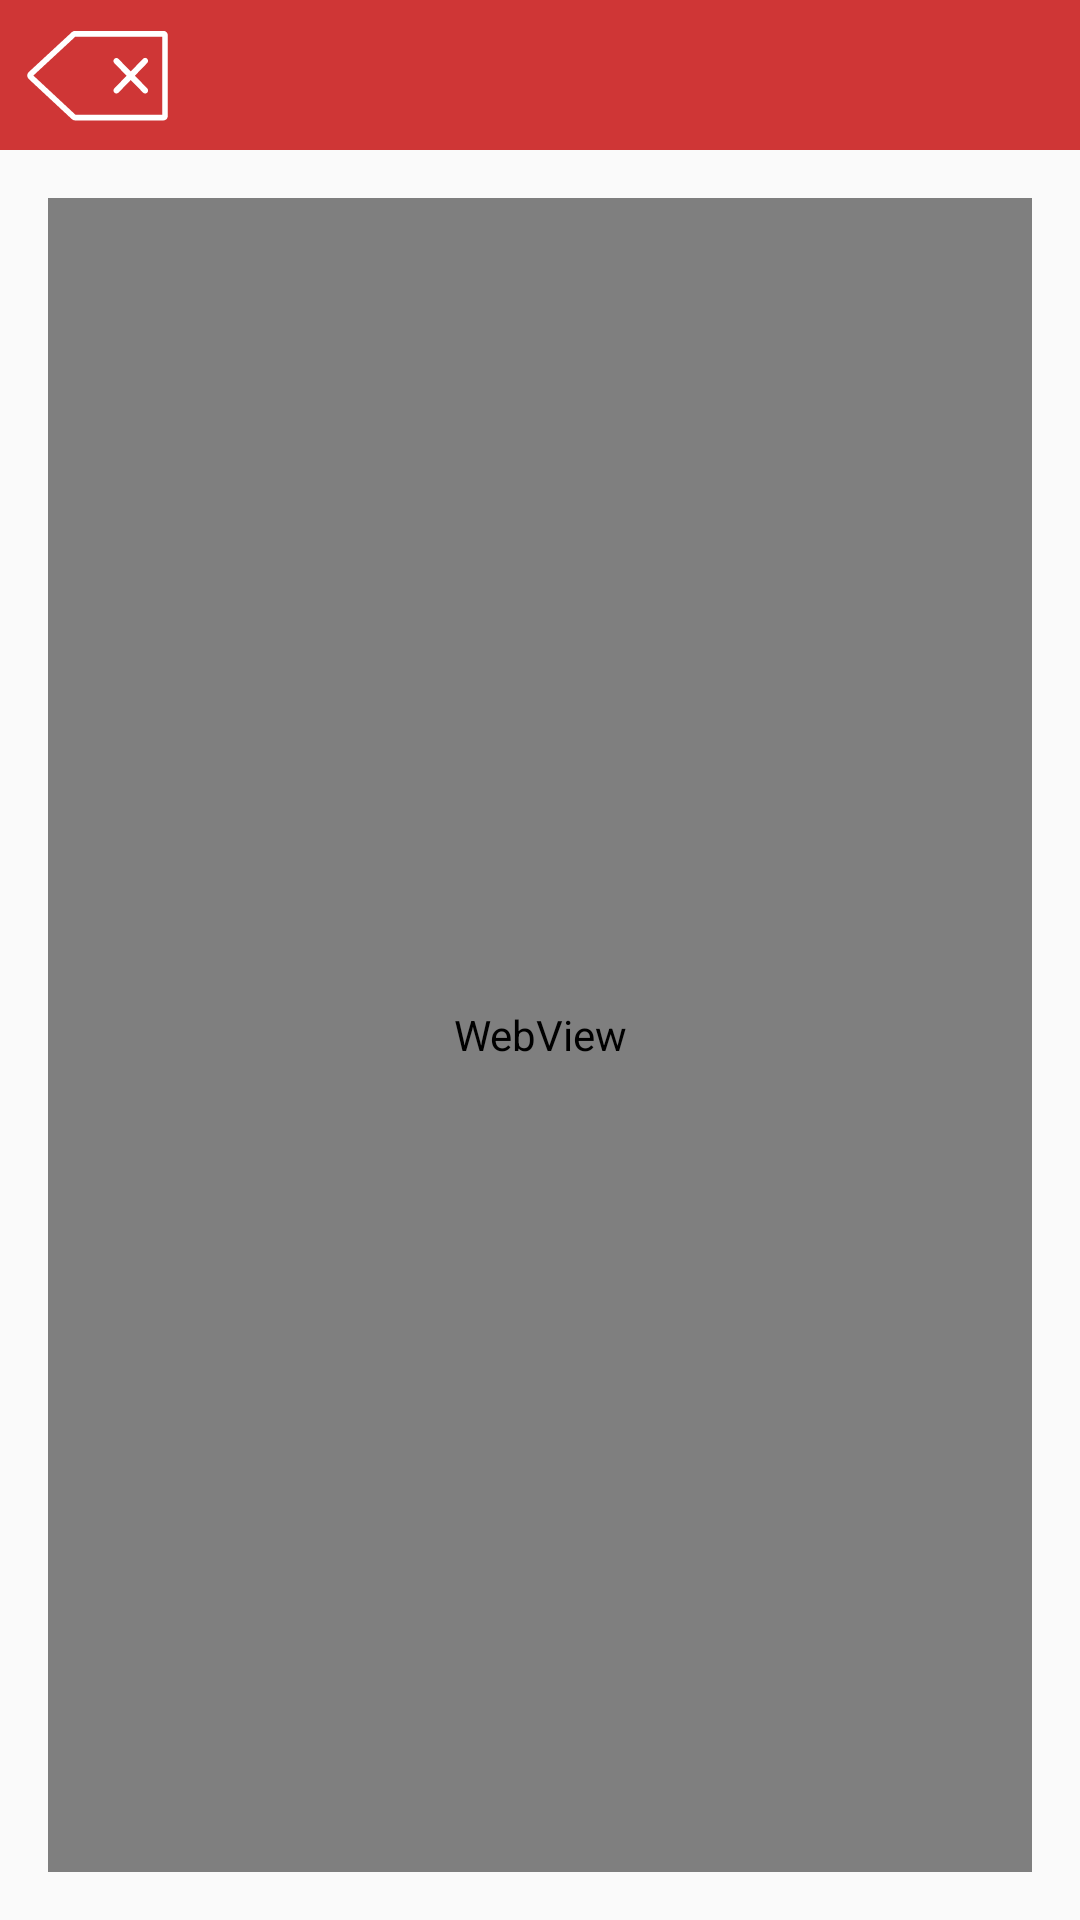

Screen size 1080 × 1920. Icon name, then its center in pixels as (x=x, y=y):
back: (x=97, y=76)
